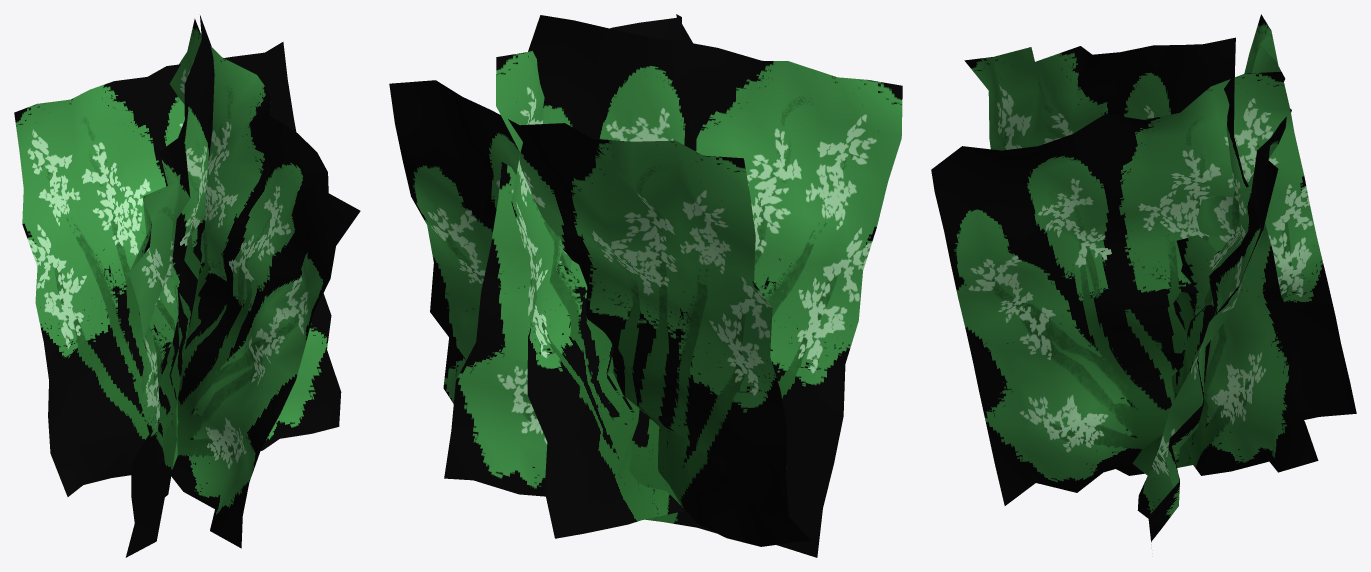
The model's file is flowers3.obj.
The picture shows the model from 3 angles, left to right: view 1: azimuth 30°, elevation 25°; view 2: azimuth 150°, elevation 25°; view 3: azimuth 270°, elevation 25°; orthographic projection. The views are drawn at different scales.
Visible parts, largest first — view 1: pPlane4; view 2: pPlane4; view 3: pPlane4.
Part boxes in pixels (x1,y1,x2,y2): pPlane4: (14,15,360,557); pPlane4: (389,14,902,557); pPlane4: (931,14,1356,542).
Bounding box in the file's own units: 0.8068 × 1.24 × 0.9304.
Materials: 1 (1 with a texture image).
